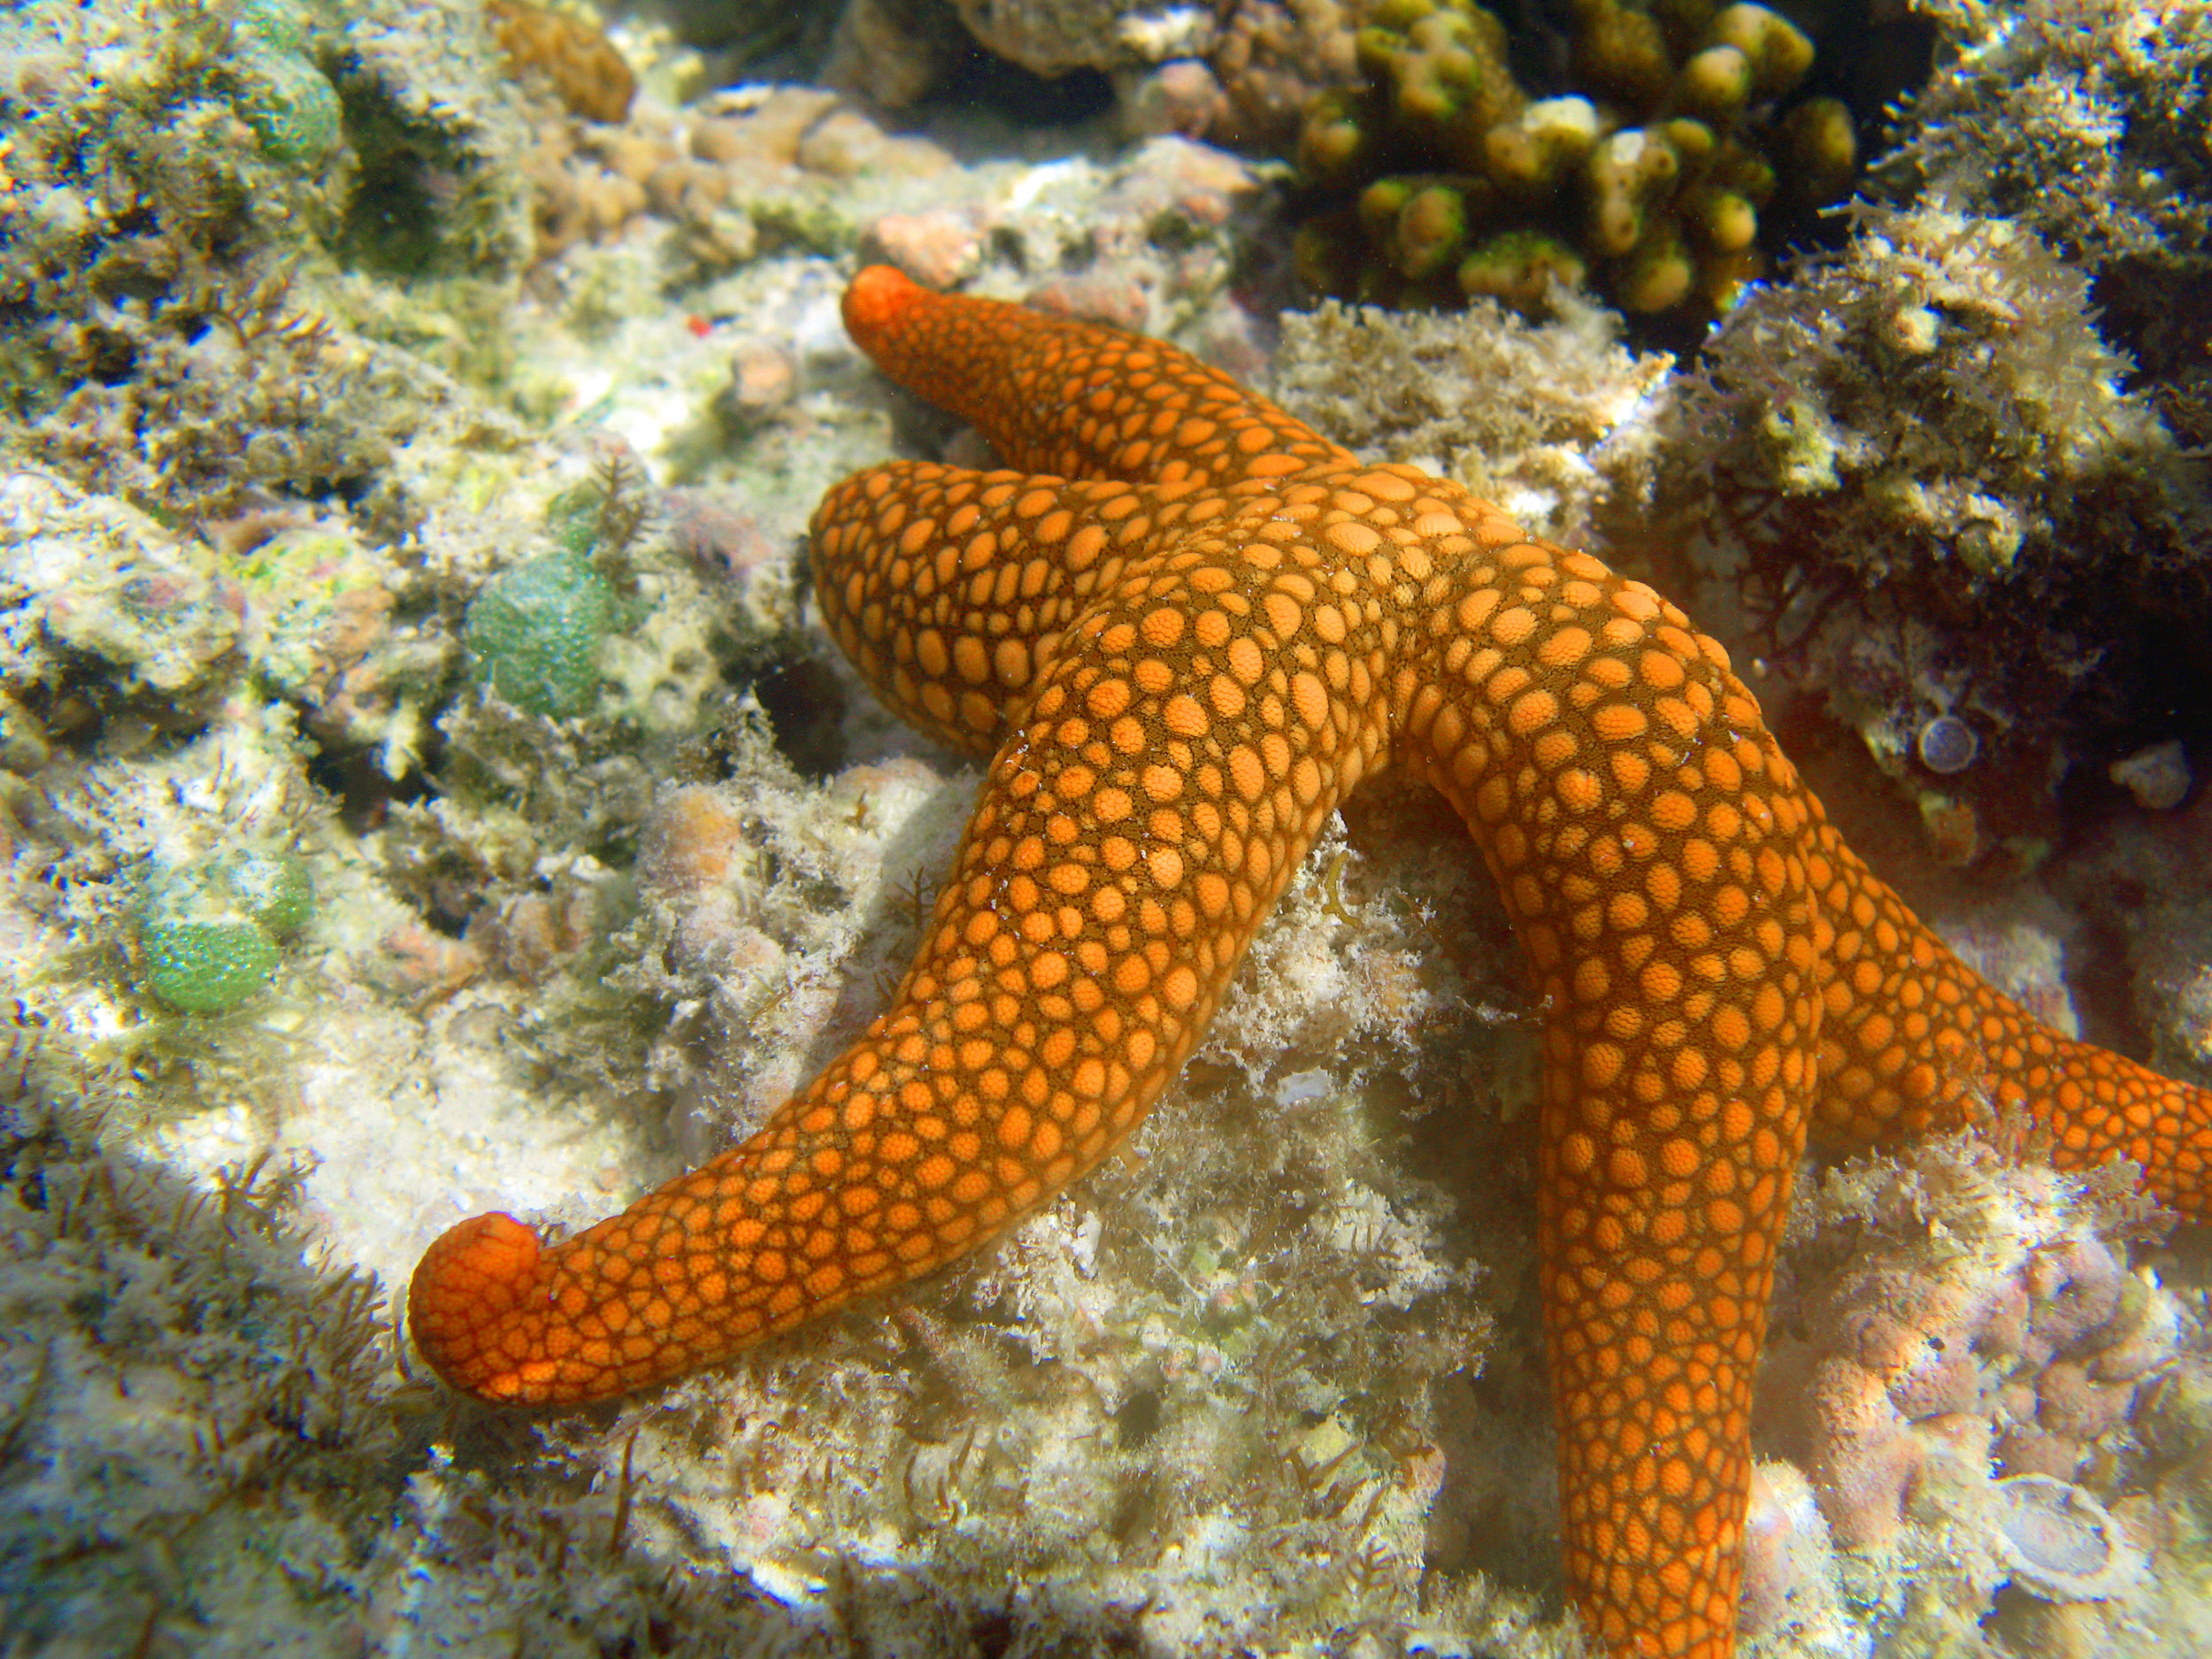starfish: (557, 256, 2186, 1649)
